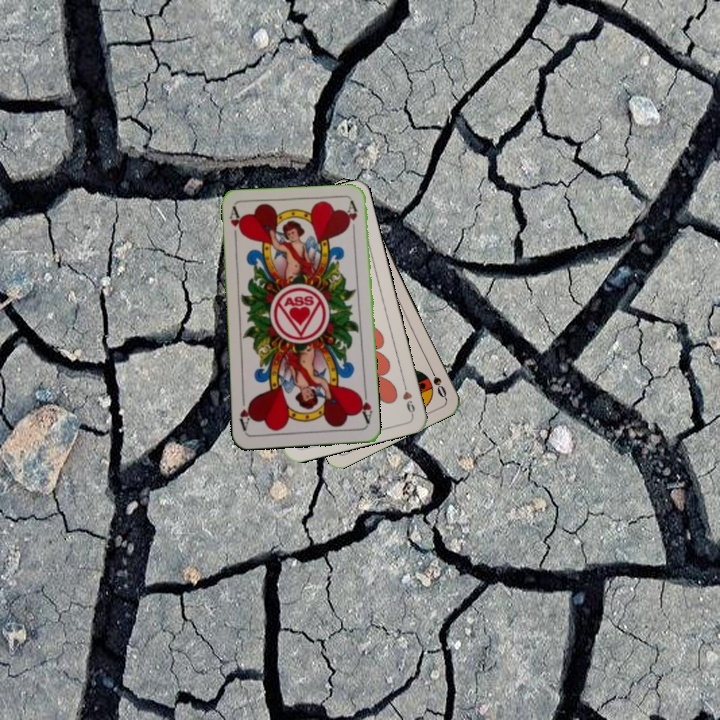H9: (399, 377, 418, 417)
HA: (225, 204, 245, 245), (354, 387, 375, 426)
SO: (425, 362, 449, 401)
